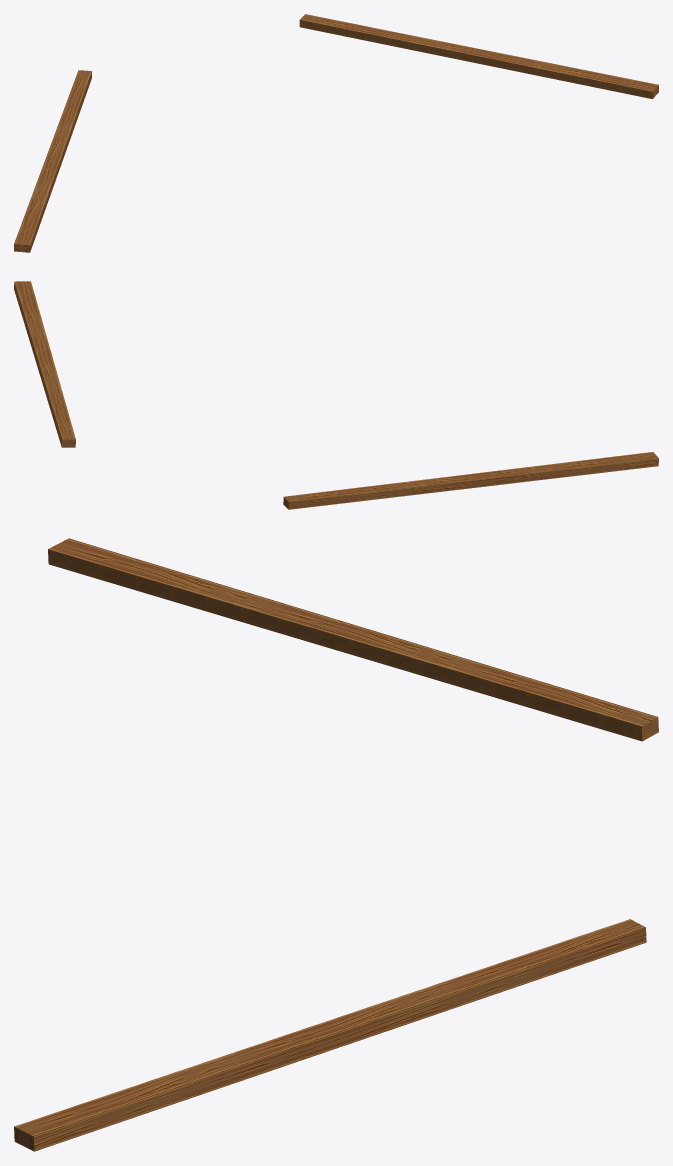
3 views of the same model, one above another, from view 1: azimuth 30°, elevation 25°; view 2: azimuth 150°, elevation 25°; view 3: azimuth 270°, elevation 25° (orthographic). The views are drawn at different scales.
Visible parts, largest first — view 1: Cube.2026; view 2: Cube.2026; view 3: Cube.2026.
Boxes of the visible parts, bbox=[...] form: Cube.2026: bbox=[14, 14, 658, 252]; Cube.2026: bbox=[14, 281, 658, 509]; Cube.2026: bbox=[14, 538, 658, 1151].
Size of the model in its own units: 1787 by 68.02 by 787.
1 material, 1 textured.
